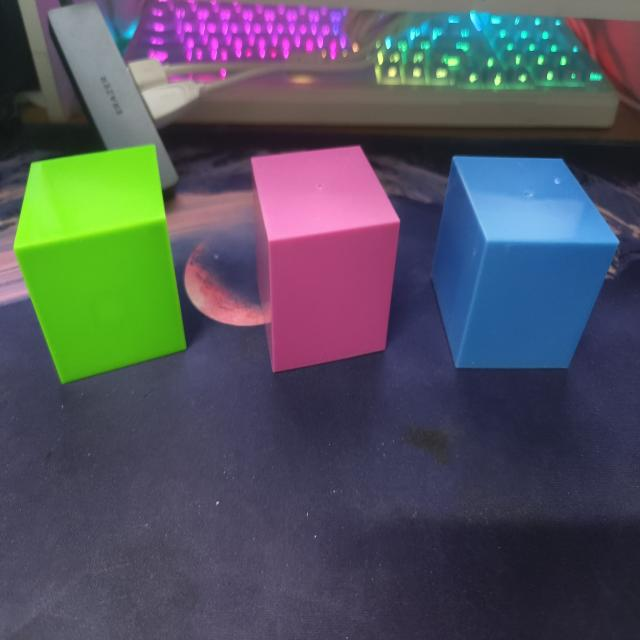blue: (432, 155, 620, 374)
green: (12, 139, 188, 386)
pink: (249, 145, 401, 375)
